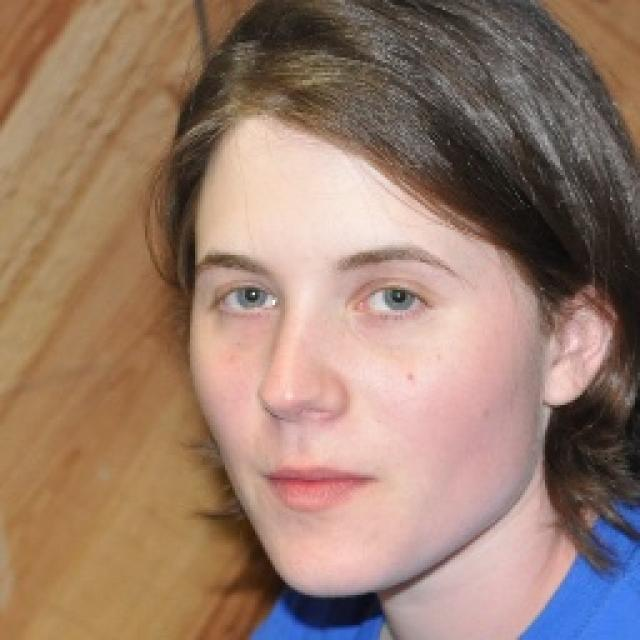earlobe: (541, 364, 582, 409)
eye: (357, 284, 431, 316), (215, 284, 280, 315)
nose: (254, 392, 348, 463)
wholeear: (540, 282, 620, 409)
